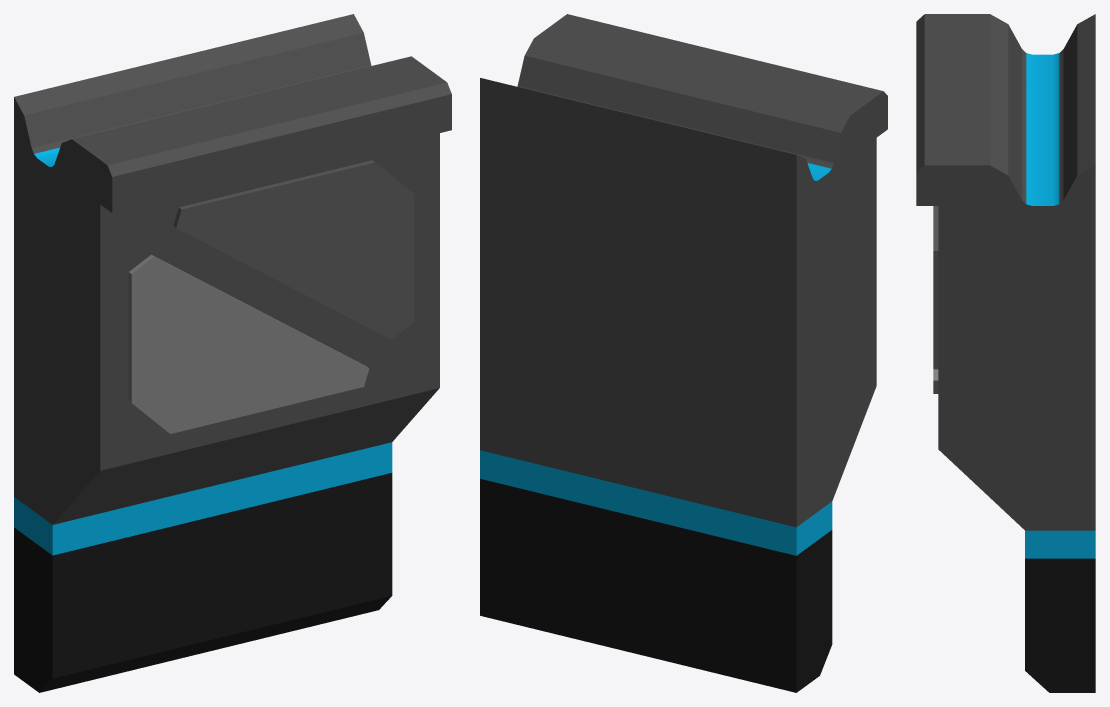
File: Floor_Edge_01x2I.fbx
The picture shows the model from 3 angles, left to right: view 1: azimuth 30°, elevation 25°; view 2: azimuth 150°, elevation 25°; view 3: azimuth 270°, elevation 25°; orthographic projection. The views are drawn at different scales.
Parts seen in each view (by area): view 1: Floor_Edge_01x2I; view 2: Floor_Edge_01x2I; view 3: Floor_Edge_01x2I.
Part boxes in pixels (x1,y1,x2,y2): Floor_Edge_01x2I: (14,14,451,692); Floor_Edge_01x2I: (480,14,887,692); Floor_Edge_01x2I: (916,14,1095,692).
Size of the model in its own units: 400 by 650 by 200.
